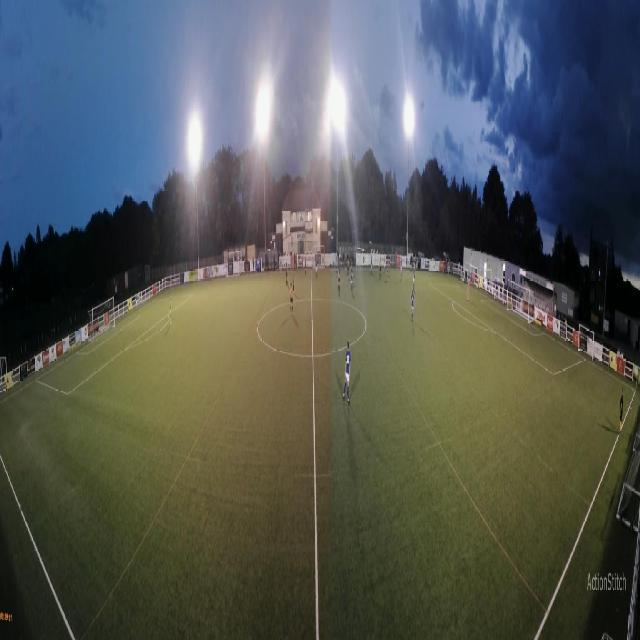player: (342, 339, 351, 405), (290, 282, 294, 316), (411, 289, 415, 323), (169, 296, 172, 326), (292, 267, 295, 295), (338, 267, 341, 293), (285, 262, 288, 286), (347, 256, 350, 280), (350, 263, 353, 285), (466, 280, 469, 301), (351, 268, 353, 293), (413, 266, 415, 291), (379, 256, 381, 280), (387, 259, 389, 281), (370, 256, 372, 277), (400, 258, 402, 279), (305, 256, 307, 276), (315, 259, 317, 279), (384, 255, 386, 275), (336, 256, 338, 275)
